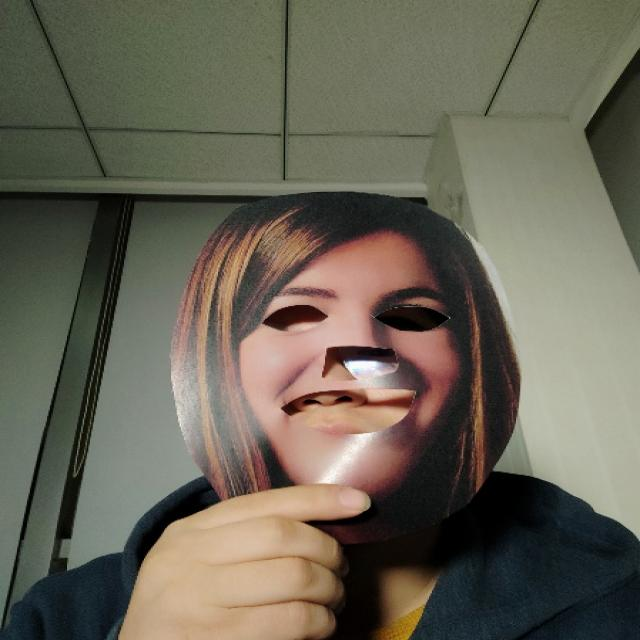mask: (165, 186, 526, 540)
